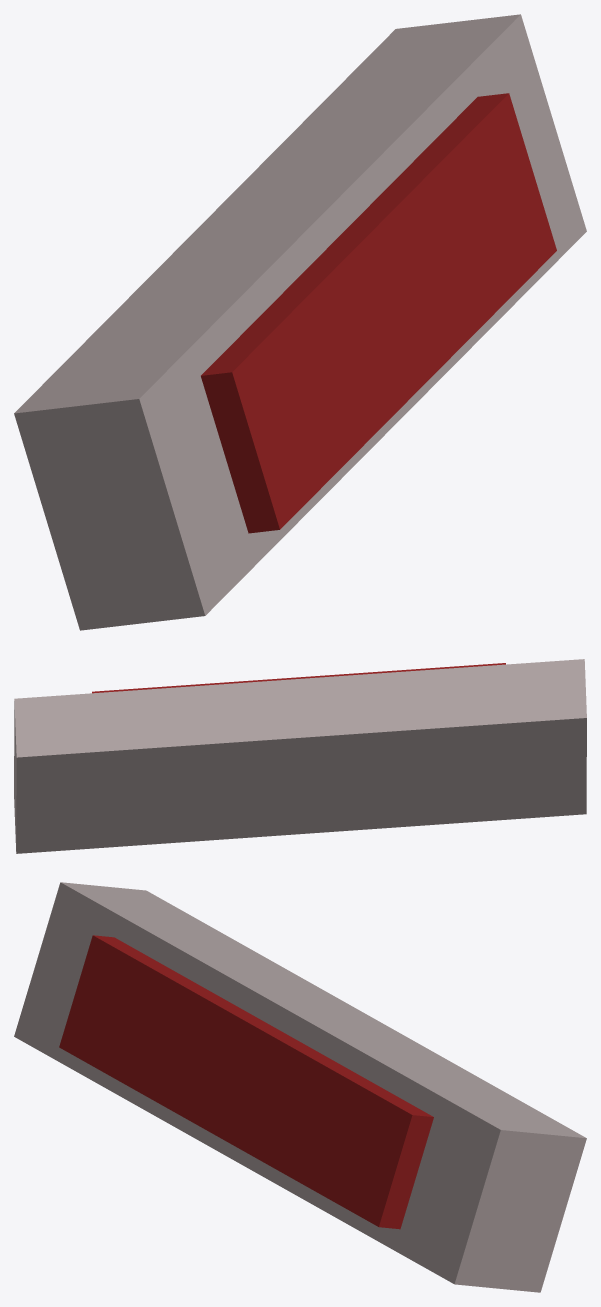
The model's file is Task1Button.fbx.
3 views of the same model, one above another, from view 1: azimuth 30°, elevation 25°; view 2: azimuth 150°, elevation 25°; view 3: azimuth 270°, elevation 25° (orthographic). The views are drawn at different scales.
Parts seen in each view (by area): view 1: Base__1_, ButtonTop; view 2: Base__1_, ButtonTop; view 3: Base__1_, ButtonTop.
Part boxes in pixels (box(x1,y1,x2,y2)): Base__1_: box(14, 14, 586, 630); ButtonTop: box(201, 93, 556, 533); Base__1_: box(14, 659, 586, 853); ButtonTop: box(92, 663, 505, 693); Base__1_: box(14, 882, 586, 1292); ButtonTop: box(59, 935, 433, 1229).
Bounding box in the file's own units: 11.88 × 3.68 × 10.52.
